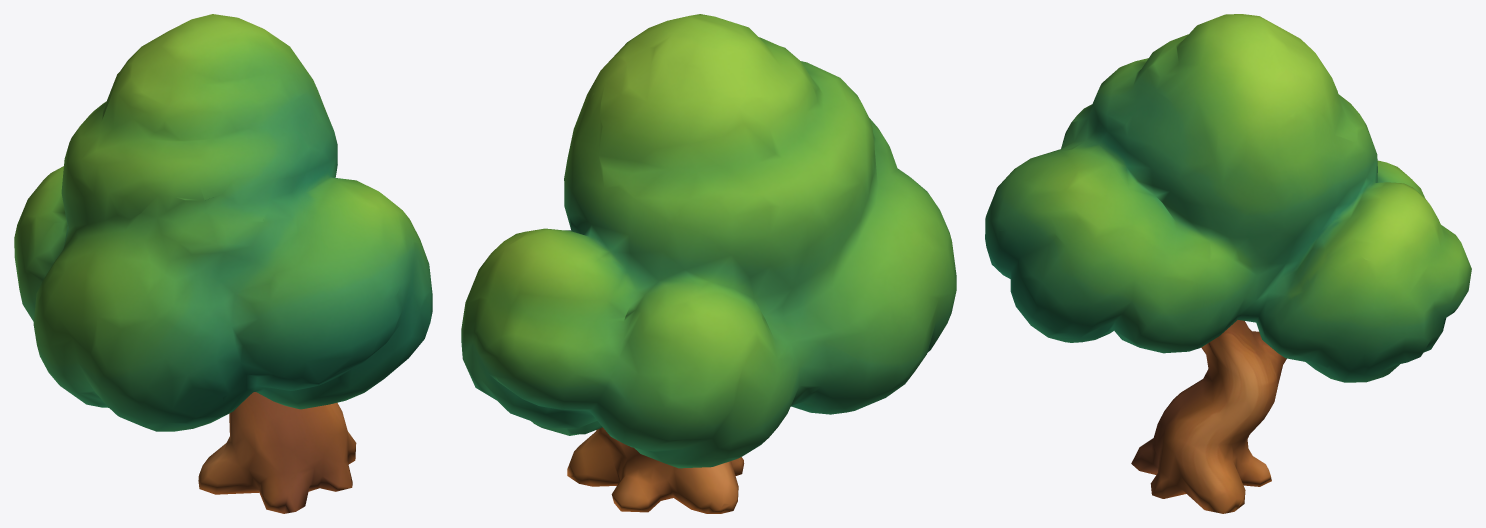
File: textures.glb
3 renders of one model, left to right at view 1: azimuth 30°, elevation 25°; view 2: azimuth 150°, elevation 25°; view 3: azimuth 270°, elevation 25°, orthographic. The views are drawn at different scales.
Visible parts, largest first — view 1: tripo_node_930768dc-dd1e-4f08-9bb4-f76229d1d859; view 2: tripo_node_930768dc-dd1e-4f08-9bb4-f76229d1d859; view 3: tripo_node_930768dc-dd1e-4f08-9bb4-f76229d1d859.
Boxes of the visible parts, bbox=[...] form: tripo_node_930768dc-dd1e-4f08-9bb4-f76229d1d859: bbox=[14, 14, 432, 513]; tripo_node_930768dc-dd1e-4f08-9bb4-f76229d1d859: bbox=[461, 14, 956, 513]; tripo_node_930768dc-dd1e-4f08-9bb4-f76229d1d859: bbox=[985, 14, 1471, 513].
Size of the model in its own units: 0.7504 by 0.9805 by 1.
Materials: 1 (1 with a texture image).
